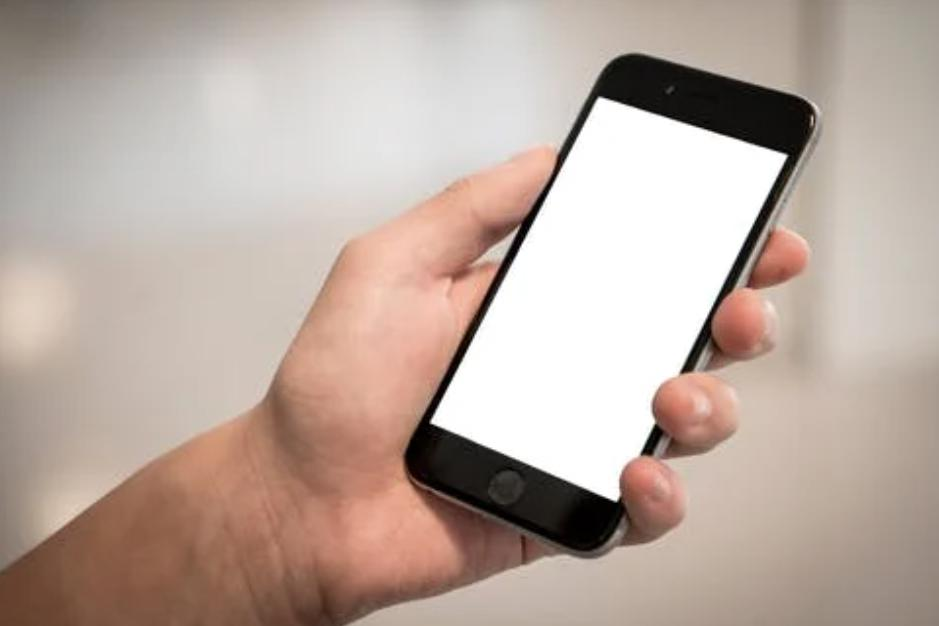mobile: (405, 51, 821, 562)
